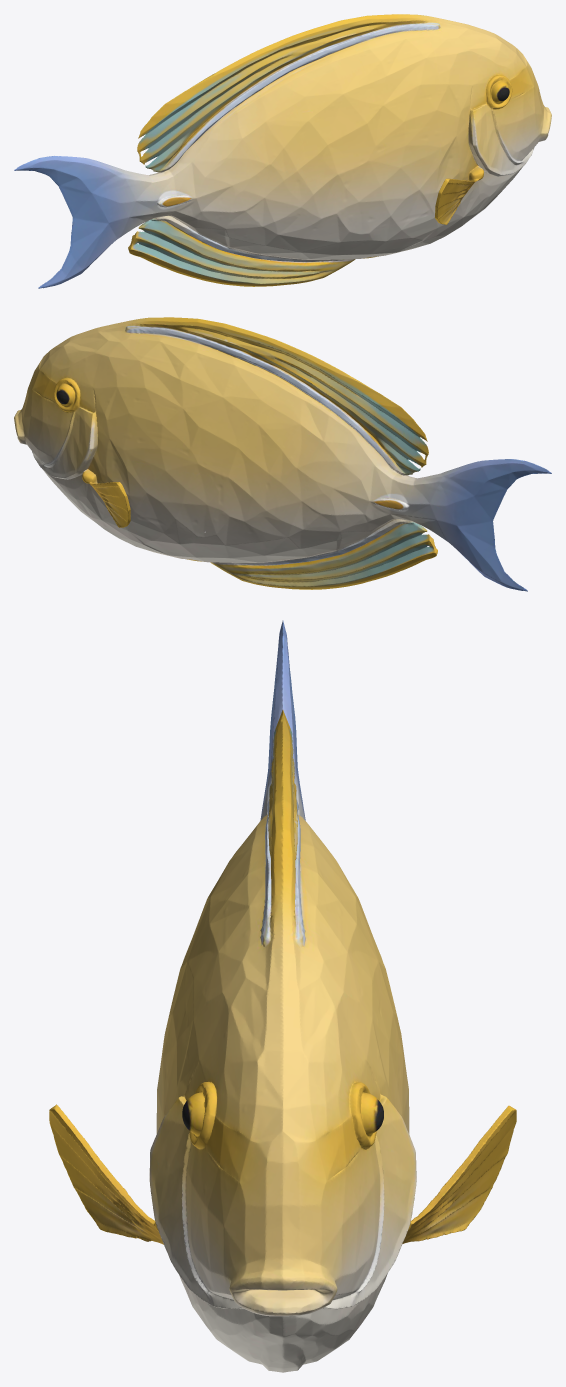
Rendered from Cirujano-de-aleta-amarilla.glb.
The picture shows the model from 3 angles, top to bottom: view 1: azimuth 30°, elevation 25°; view 2: azimuth 150°, elevation 25°; view 3: azimuth 270°, elevation 25°; orthographic projection. The views are drawn at different scales.
Parts seen in each view (by area): view 1: tripo_node_5ce61bf7-3e55-4cc5-8ccc-aeb4e3b73f95; view 2: tripo_node_5ce61bf7-3e55-4cc5-8ccc-aeb4e3b73f95; view 3: tripo_node_5ce61bf7-3e55-4cc5-8ccc-aeb4e3b73f95.
Part boxes in pixels (x1=…): tripo_node_5ce61bf7-3e55-4cc5-8ccc-aeb4e3b73f95: x1=14, y1=14, x2=551, y2=288; tripo_node_5ce61bf7-3e55-4cc5-8ccc-aeb4e3b73f95: x1=14, y1=317, x2=551, y2=591; tripo_node_5ce61bf7-3e55-4cc5-8ccc-aeb4e3b73f95: x1=49, y1=620, x2=516, y2=1372.
Size of the model in its own units: 1 by 0.4514 by 0.3788.
1 material, 1 textured.
